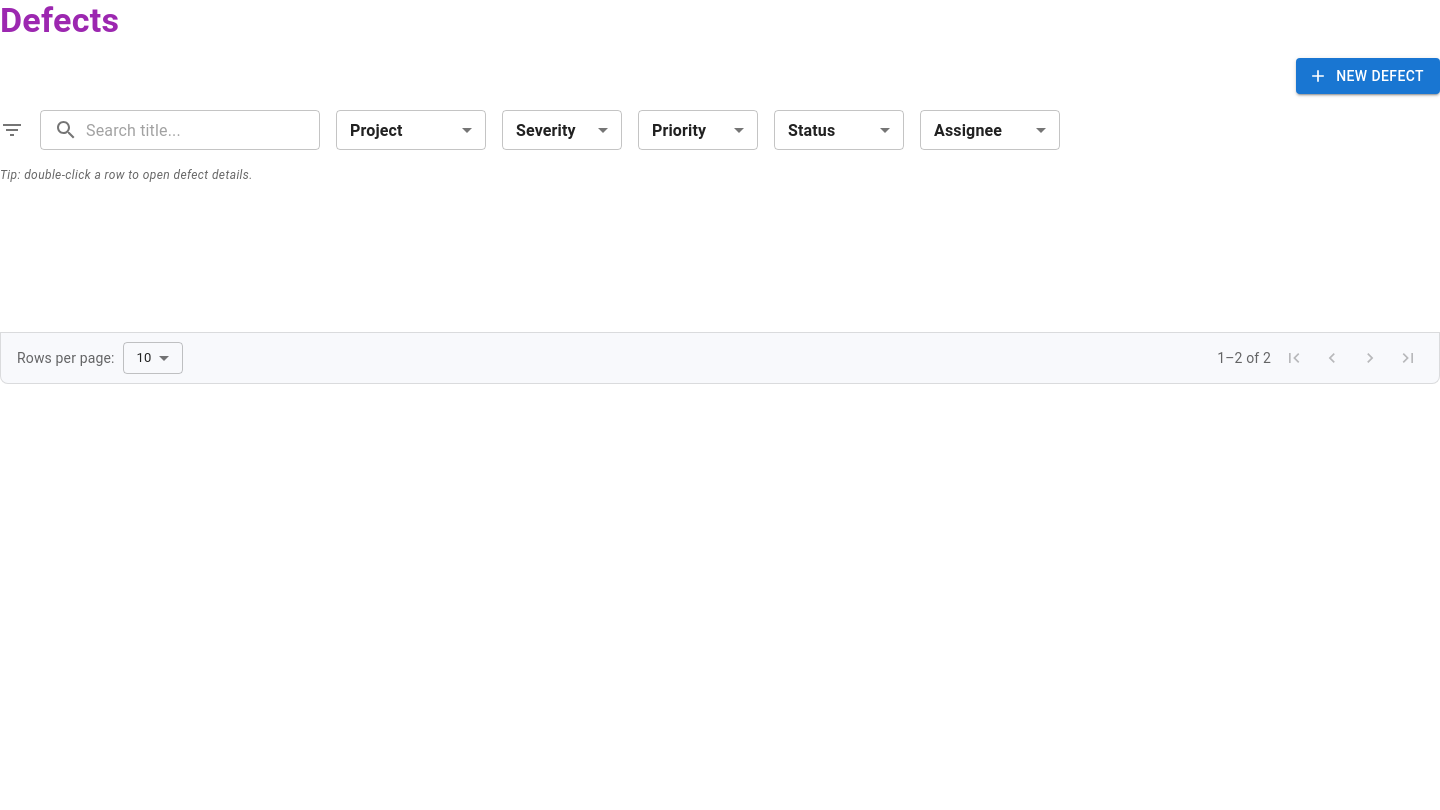
Test: DefectsPage › opens the New Defect dialog when clicking the button
This screenshot has width=1440, height=810.
Click the button "New Defect" at (1368,76), box [1296, 58, 1439, 94]
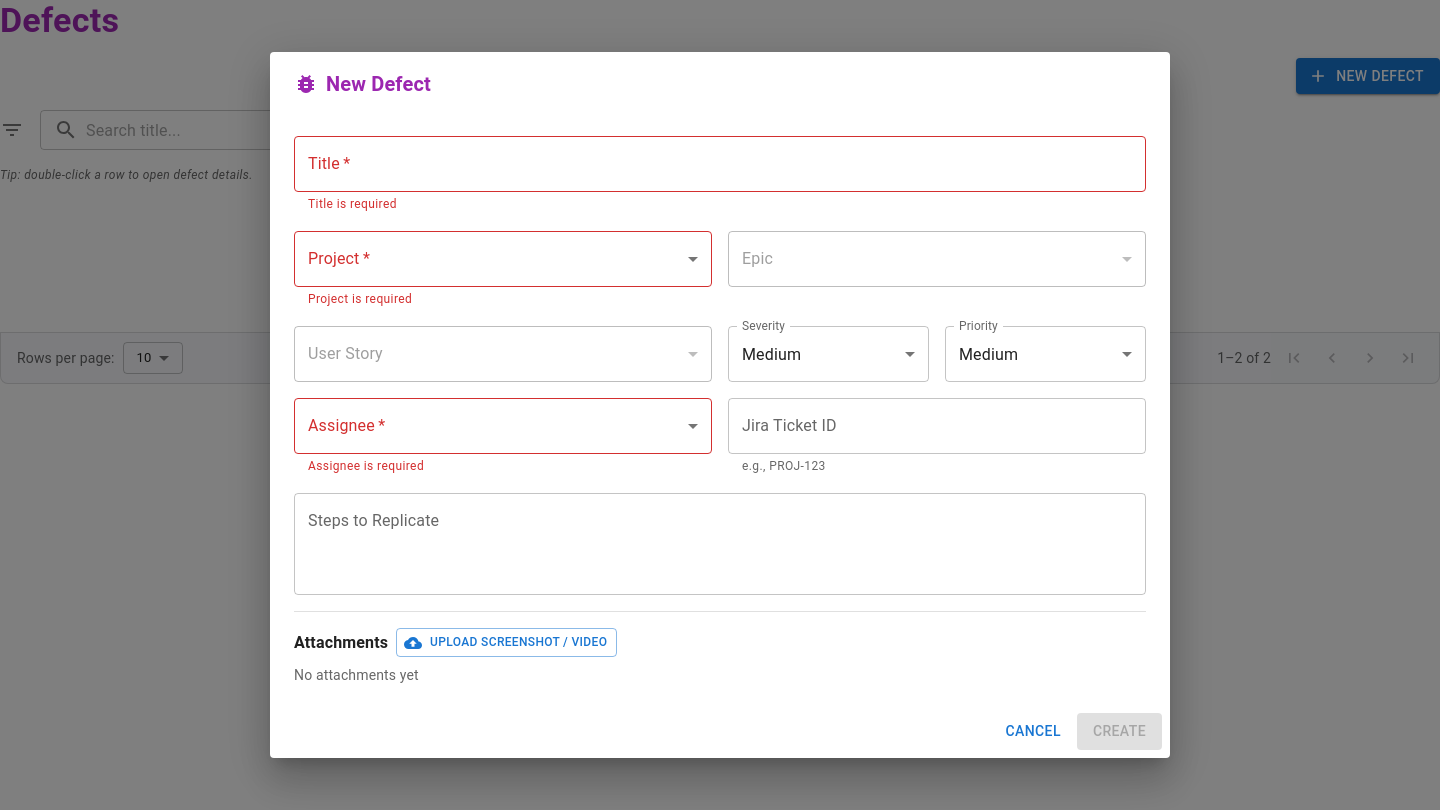
Expected: the heading "New Defect" is shown, [294, 72, 431, 96]
